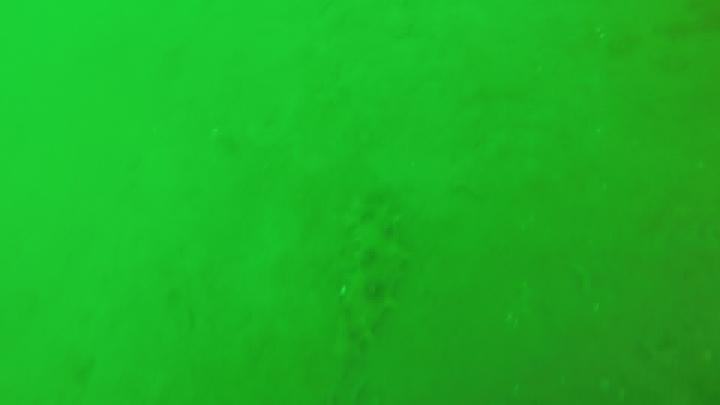holothurian: (334, 189, 405, 375)
